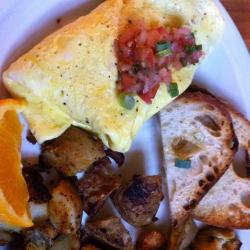bread: (154, 93, 250, 245)
omelette: (22, 2, 218, 134)
